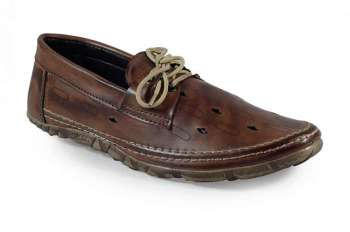Footwear: (24, 28, 326, 187)
